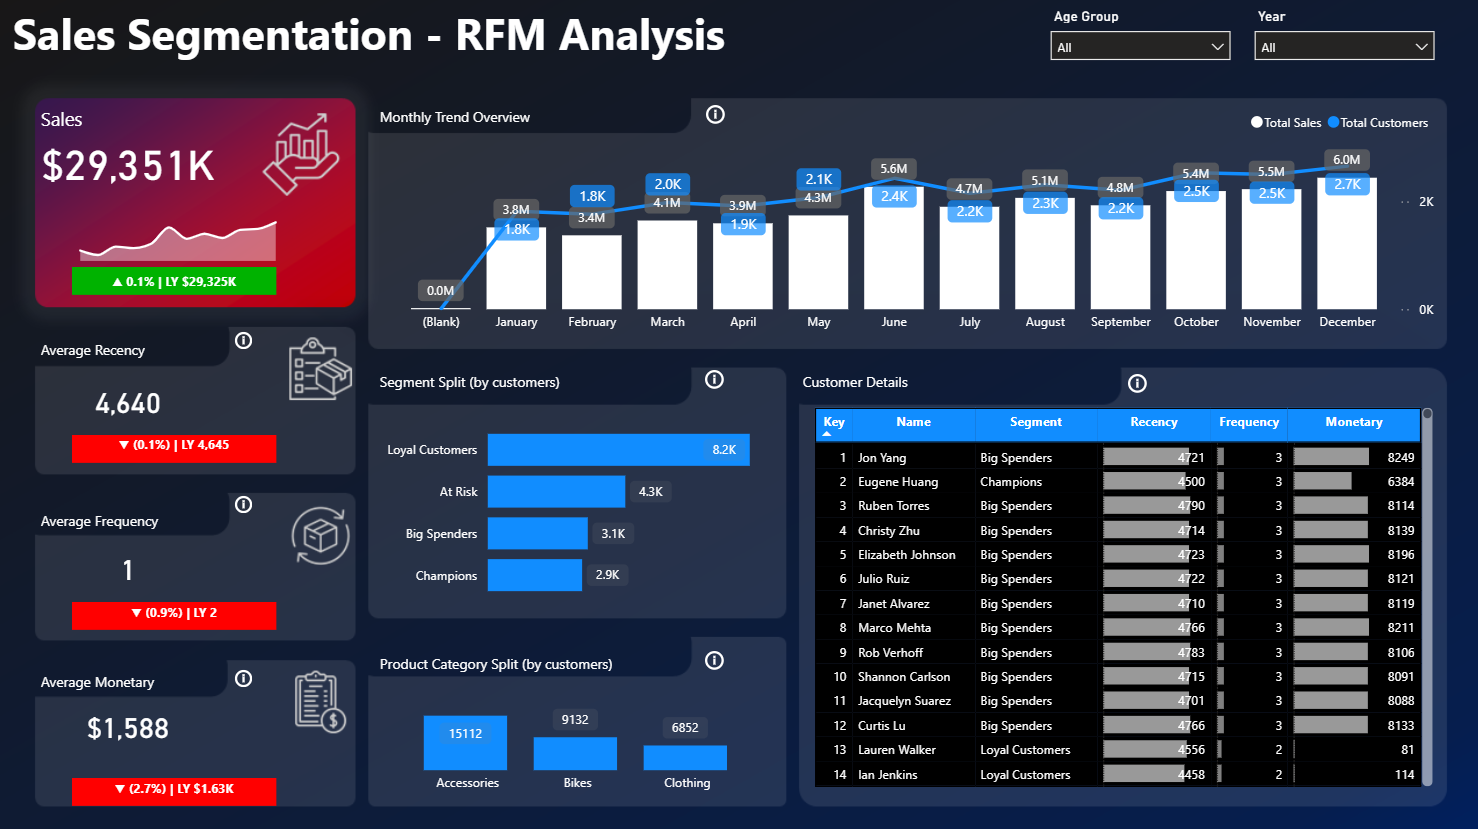

What the dashboard file says about the page in this screenshot:
{"tool":"powerbi","page":{"name":"Page 1","canvas":[1280,720],"ordinal":0},"visuals":[{"type":"shape","box":[64,672,176,24],"z":0},{"type":"shape","box":[64,520,176,24],"z":1000},{"type":"shape","box":[64,232,176,24],"z":2000},{"type":"textbox","box":[8,0,632,72],"z":3000},{"type":"card","fields":{"Values":["Ttbl_Measures.Total Sales"]},"box":[32.2,112.8,160.2,56.4],"z":4000},{"type":"textbox","box":[32,88,88,40],"z":5000},{"type":"textbox","box":[32.2,288.2,167.4,32.2],"z":6000},{"type":"textbox","box":[32.2,435.9,160.2,39.4],"z":7000},{"type":"textbox","box":[32.2,574.7,167.4,31.3],"z":8000},{"type":"card","fields":{"Values":["Ttbl_Measures.AvgRecency"]},"box":[32,320,160,56],"z":9000},{"type":"card","fields":{"Values":["Ttbl_Measures.AvgFrequency"]},"box":[32,464,160,56],"z":10000},{"type":"card","fields":{"Values":["Ttbl_Measures.AvgMonetary"]},"box":[32,600,160,56],"z":11000},{"type":"card","fields":{"Values":["Ttbl_Measures.YoY SalesVariance"]},"box":[64,232,176,24],"z":12000},{"type":"shape","box":[64,376,176,24],"z":13000},{"type":"slicer","fields":{"Values":["DateTable.Year"]},"box":[1072.3,3.6,175.4,63.6],"z":14000},{"type":"card","fields":{"Values":["Ttbl_Measures.YoY RecencyVar"]},"box":[63.8,371.4,175.9,31.9],"z":15000},{"type":"card","fields":{"Values":["Ttbl_Measures.YoY FrequencyVar"]},"box":[63.8,515.5,175.9,31.9],"z":16000},{"type":"card","fields":{"Values":["Ttbl_Measures.YoY MonetaryVar"]},"box":[63.8,667.8,175.9,31.9],"z":17000},{"type":"lineChart","fields":{"Y":["Ttbl_Measures.Total Sales"],"Category":["DateTable.Month Number"]},"box":[40.3,169.2,259.6,62.7],"z":18000},{"type":"lineStackedColumnComboChart","fields":{"Category":["DateTable.Month Name"],"Y":["Ttbl_Measures.Total Sales"],"Y2":["Ttbl_Measures.Total Customers"]},"box":[324.4,87.8,916.7,208.9],"z":19000},{"type":"textbox","box":[324,87.7,168.3,32.2],"z":20000},{"type":"clusteredBarChart","fields":{"Category":["RFM.Customer_Segment"],"Y":["Ttbl_Measures.Total Customers"]},"box":[324,348.2,350.9,183.5],"z":21000},{"type":"textbox","box":[324,316,230,32.2],"z":22000},{"type":"textbox","box":[324,558.5,245.3,32.2],"z":23000},{"type":"columnChart","fields":{"Y":["Ttbl_Measures.Total Customers"],"Category":["gold dim_products.category"]},"box":[324,582.7,350.9,111],"z":24000},{"type":"tableEx","fields":{"Values":["RFM.customer_key","RFM.customer_name","RFM.Customer_Segment","RFM.Recency","RFM.Frequency","RFM.Monetary"]},"box":[697.8,347.8,543.3,335.6],"z":25000},{"type":"slicer","fields":{"Values":["vw_report_customers.age_group"]},"box":[896.9,3.6,175.4,64.4],"z":26000},{"type":"textbox","box":[688,316,273,32],"z":27000},{"type":"actionButton","box":[605.6,87.8,26.6,24.8],"z":28000},{"type":"actionButton","box":[604.7,315.7,27.5,24.8],"z":29000},{"type":"actionButton","box":[969.2,319.2,27.5,24.8],"z":30000},{"type":"actionButton","box":[604.7,557.7,27.5,24.8],"z":31000},{"type":"actionButton","box":[200,424.4,38.9,23.3],"z":31001},{"type":"actionButton","box":[200,283.3,38.9,23.3],"z":31002},{"type":"actionButton","box":[200,574.4,38.9,23.3],"z":31003}]}

Visuals, with their boxes in screenshot pixels (x1, y1, x2, y2), scaled from the page's 1280x720 canvas onto the 1478x829 screenshot:
shape: bbox=(74, 774, 277, 801)
shape: bbox=(74, 599, 277, 626)
shape: bbox=(74, 267, 277, 295)
textbox: bbox=(9, 0, 739, 83)
card - Ttbl_Measures.Total Sales: bbox=(37, 130, 222, 195)
textbox: bbox=(37, 101, 139, 147)
textbox: bbox=(37, 332, 230, 369)
textbox: bbox=(37, 502, 222, 547)
textbox: bbox=(37, 662, 230, 698)
card - Ttbl_Measures.AvgRecency: bbox=(37, 368, 222, 433)
card - Ttbl_Measures.AvgFrequency: bbox=(37, 534, 222, 599)
card - Ttbl_Measures.AvgMonetary: bbox=(37, 691, 222, 755)
card - Ttbl_Measures.YoY SalesVariance: bbox=(74, 267, 277, 295)
shape: bbox=(74, 433, 277, 461)
slicer - DateTable.Year: bbox=(1238, 4, 1441, 77)
card - Ttbl_Measures.YoY RecencyVar: bbox=(74, 428, 277, 464)
card - Ttbl_Measures.YoY FrequencyVar: bbox=(74, 594, 277, 630)
card - Ttbl_Measures.YoY MonetaryVar: bbox=(74, 769, 277, 806)
lineChart - Ttbl_Measures.Total Sales x DateTable.Month Number: bbox=(47, 195, 346, 267)
lineStackedColumnComboChart - DateTable.Month Name x Ttbl_Measures.Total Sales: bbox=(375, 101, 1433, 342)
textbox: bbox=(374, 101, 568, 138)
clusteredBarChart - RFM.Customer_Segment x Ttbl_Measures.Total Customers: bbox=(374, 401, 779, 612)
textbox: bbox=(374, 364, 640, 401)
textbox: bbox=(374, 643, 657, 680)
columnChart - Ttbl_Measures.Total Customers x gold dim_products.category: bbox=(374, 671, 779, 799)
tableEx - RFM.customer_key x RFM.customer_name: bbox=(806, 400, 1433, 787)
slicer - vw_report_customers.age_group: bbox=(1036, 4, 1238, 78)
textbox: bbox=(794, 364, 1110, 401)
actionButton: bbox=(699, 101, 730, 130)
actionButton: bbox=(698, 363, 730, 392)
actionButton: bbox=(1119, 368, 1151, 396)
actionButton: bbox=(698, 642, 730, 671)
actionButton: bbox=(231, 489, 276, 515)
actionButton: bbox=(231, 326, 276, 353)
actionButton: bbox=(231, 661, 276, 688)
